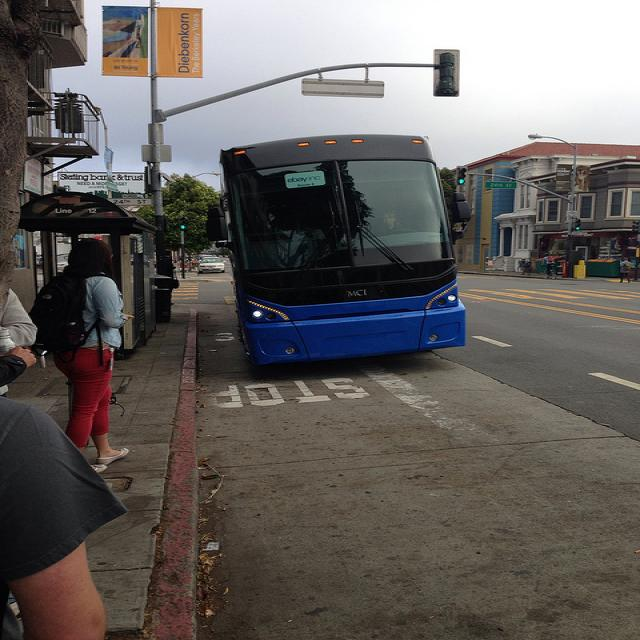Vehicle: (215, 137, 468, 371), (198, 256, 227, 274)
